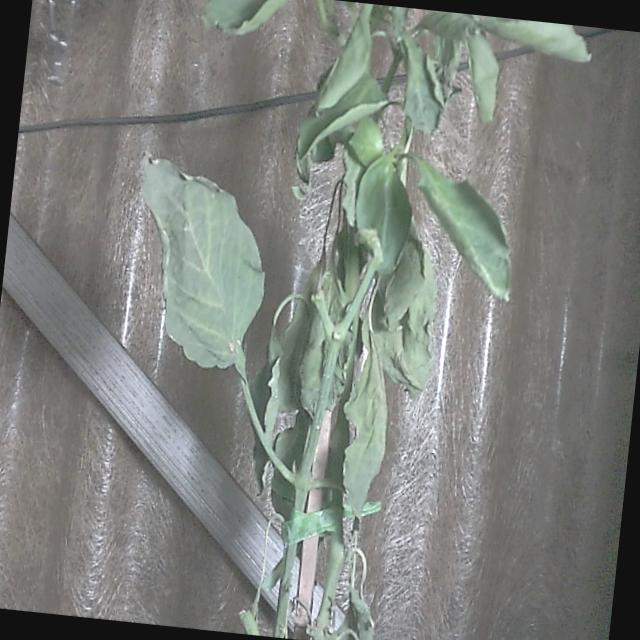Leaf: (120, 152, 277, 376), (405, 154, 526, 299), (331, 338, 396, 536), (348, 154, 418, 278)
